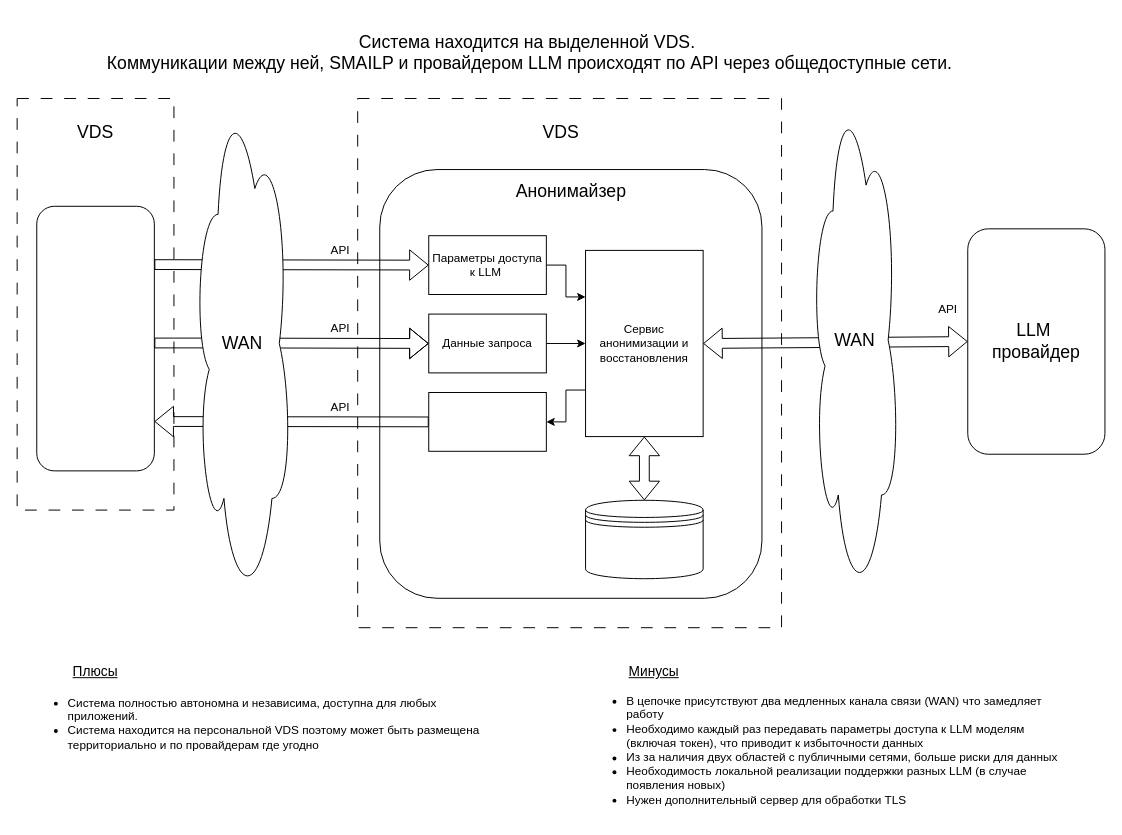
Image size: 1122x835. Some labels were removed from this diagram. The shapes that lost their labels are listed below. From the top down, each one's centre as x and y in pixels, then its label:
pixel 95 338: SMAILP
pixel 487 421: Ответ
pixel 644 539: База данных анонимайзера
